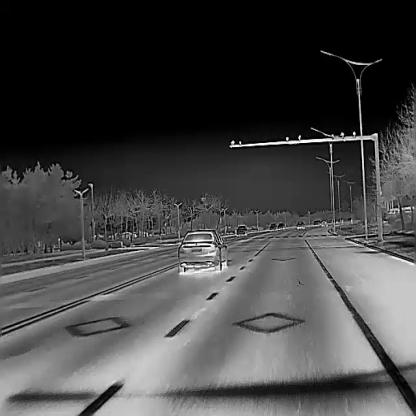car: (177, 228, 227, 272), (120, 230, 135, 239), (235, 224, 247, 235), (296, 220, 305, 228), (268, 222, 276, 229), (313, 219, 320, 226), (320, 220, 327, 227), (278, 222, 284, 228)
